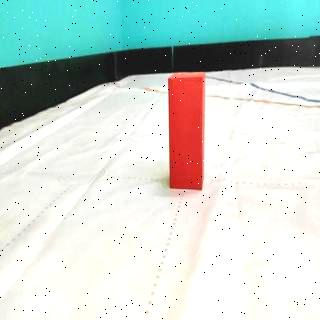redbox: (168, 72, 206, 190)
